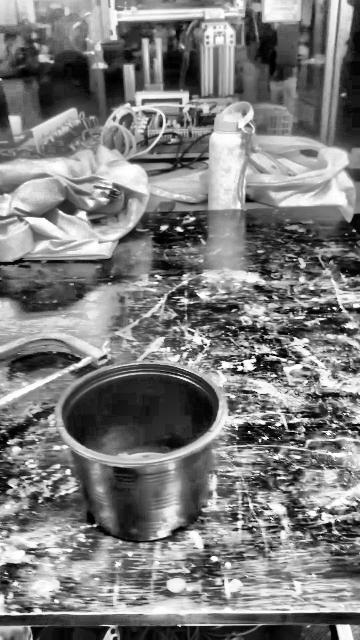pot: (61, 363, 223, 539)
